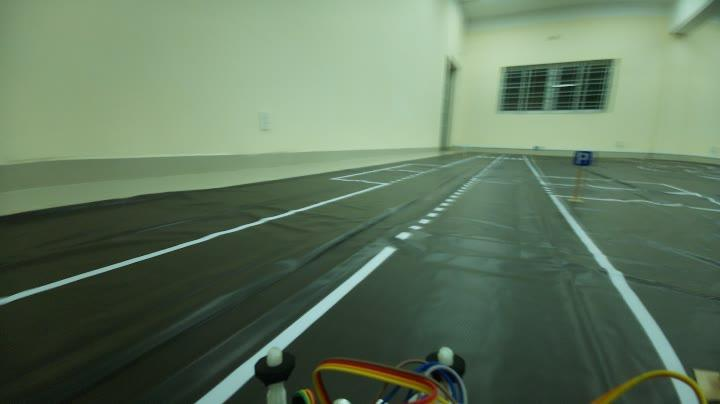parking: (567, 142, 596, 171)
